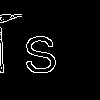S: (21, 26, 59, 75)
